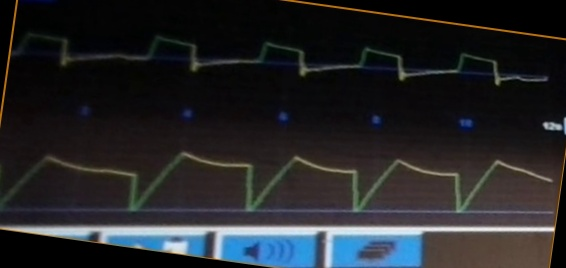Flow: (17, 32, 517, 107)
Leakage Volume: (4, 136, 549, 224)
